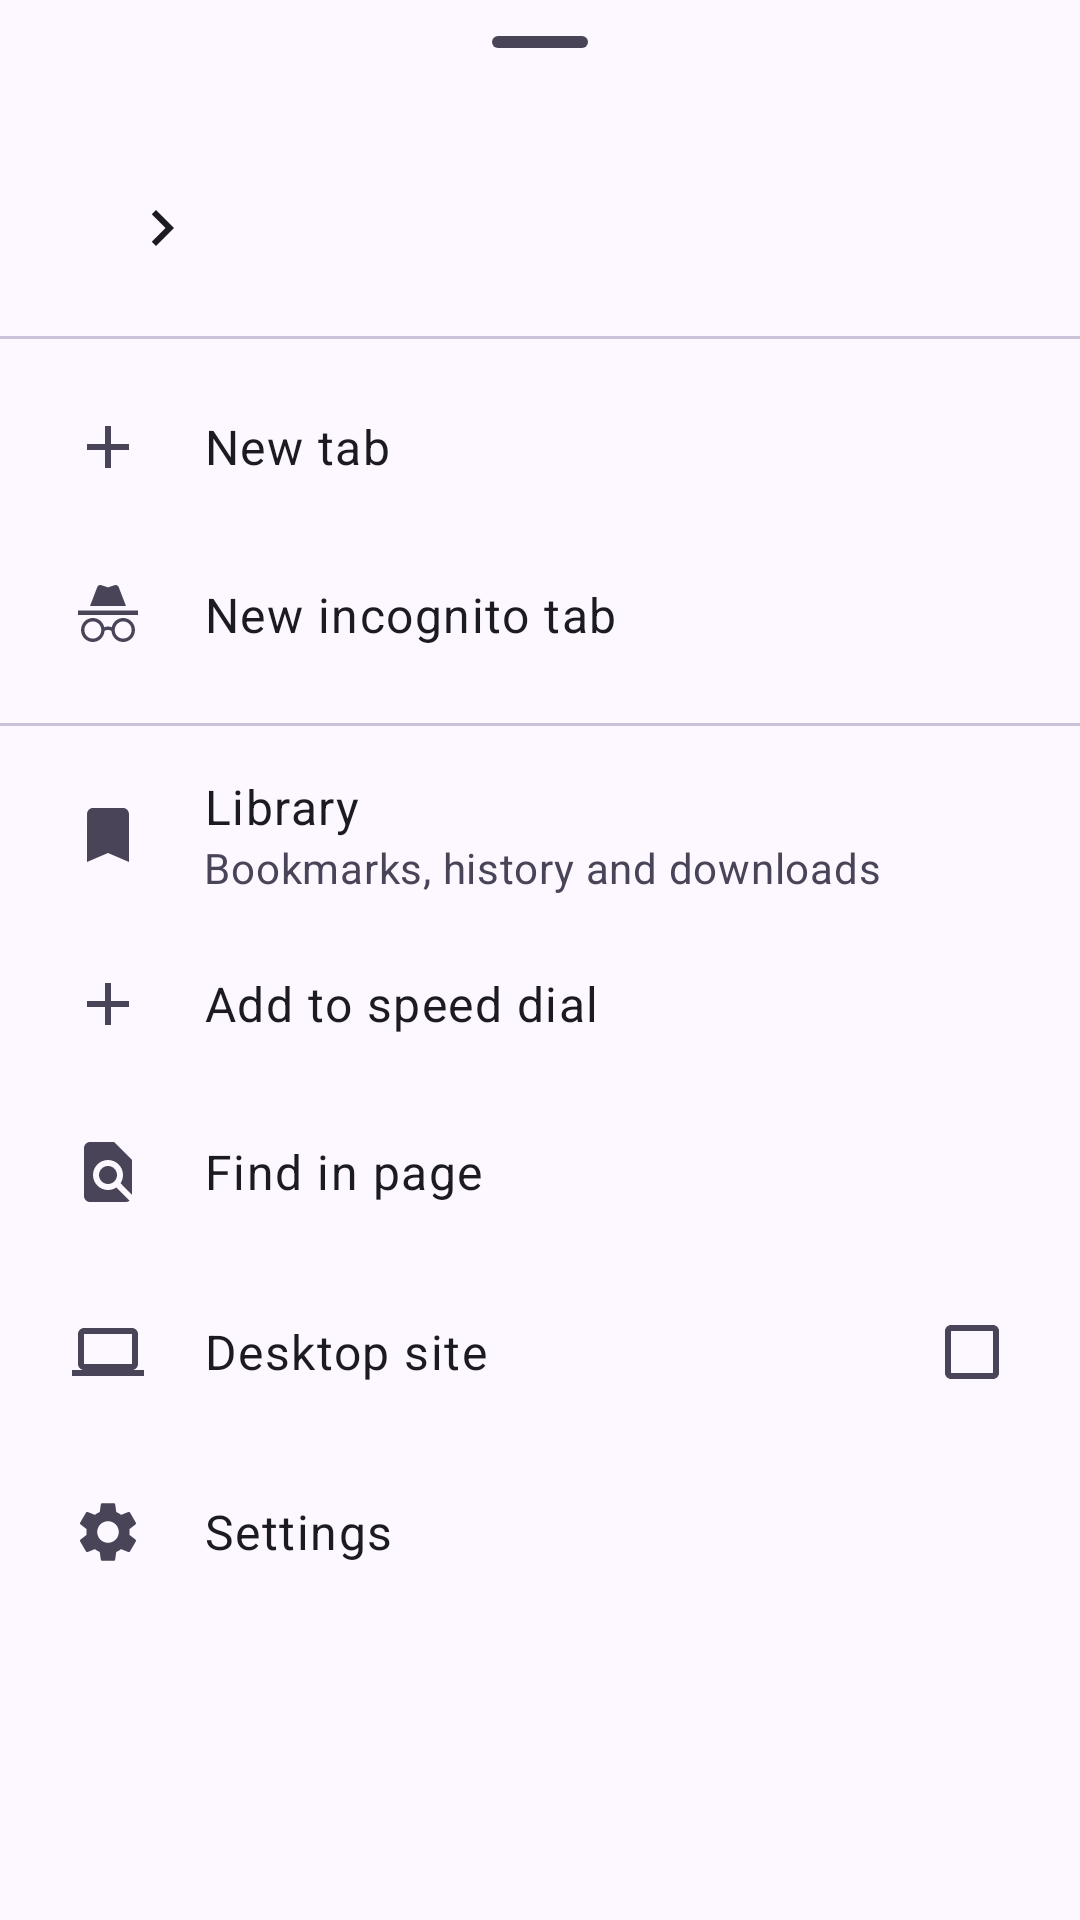

Icon bounding boxes for this 1080 × 1920 phone screenshot, format (x1, y1, x2, y2):
Forward: (152, 210, 174, 246)
